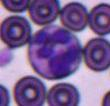N: (28, 25, 82, 80)
